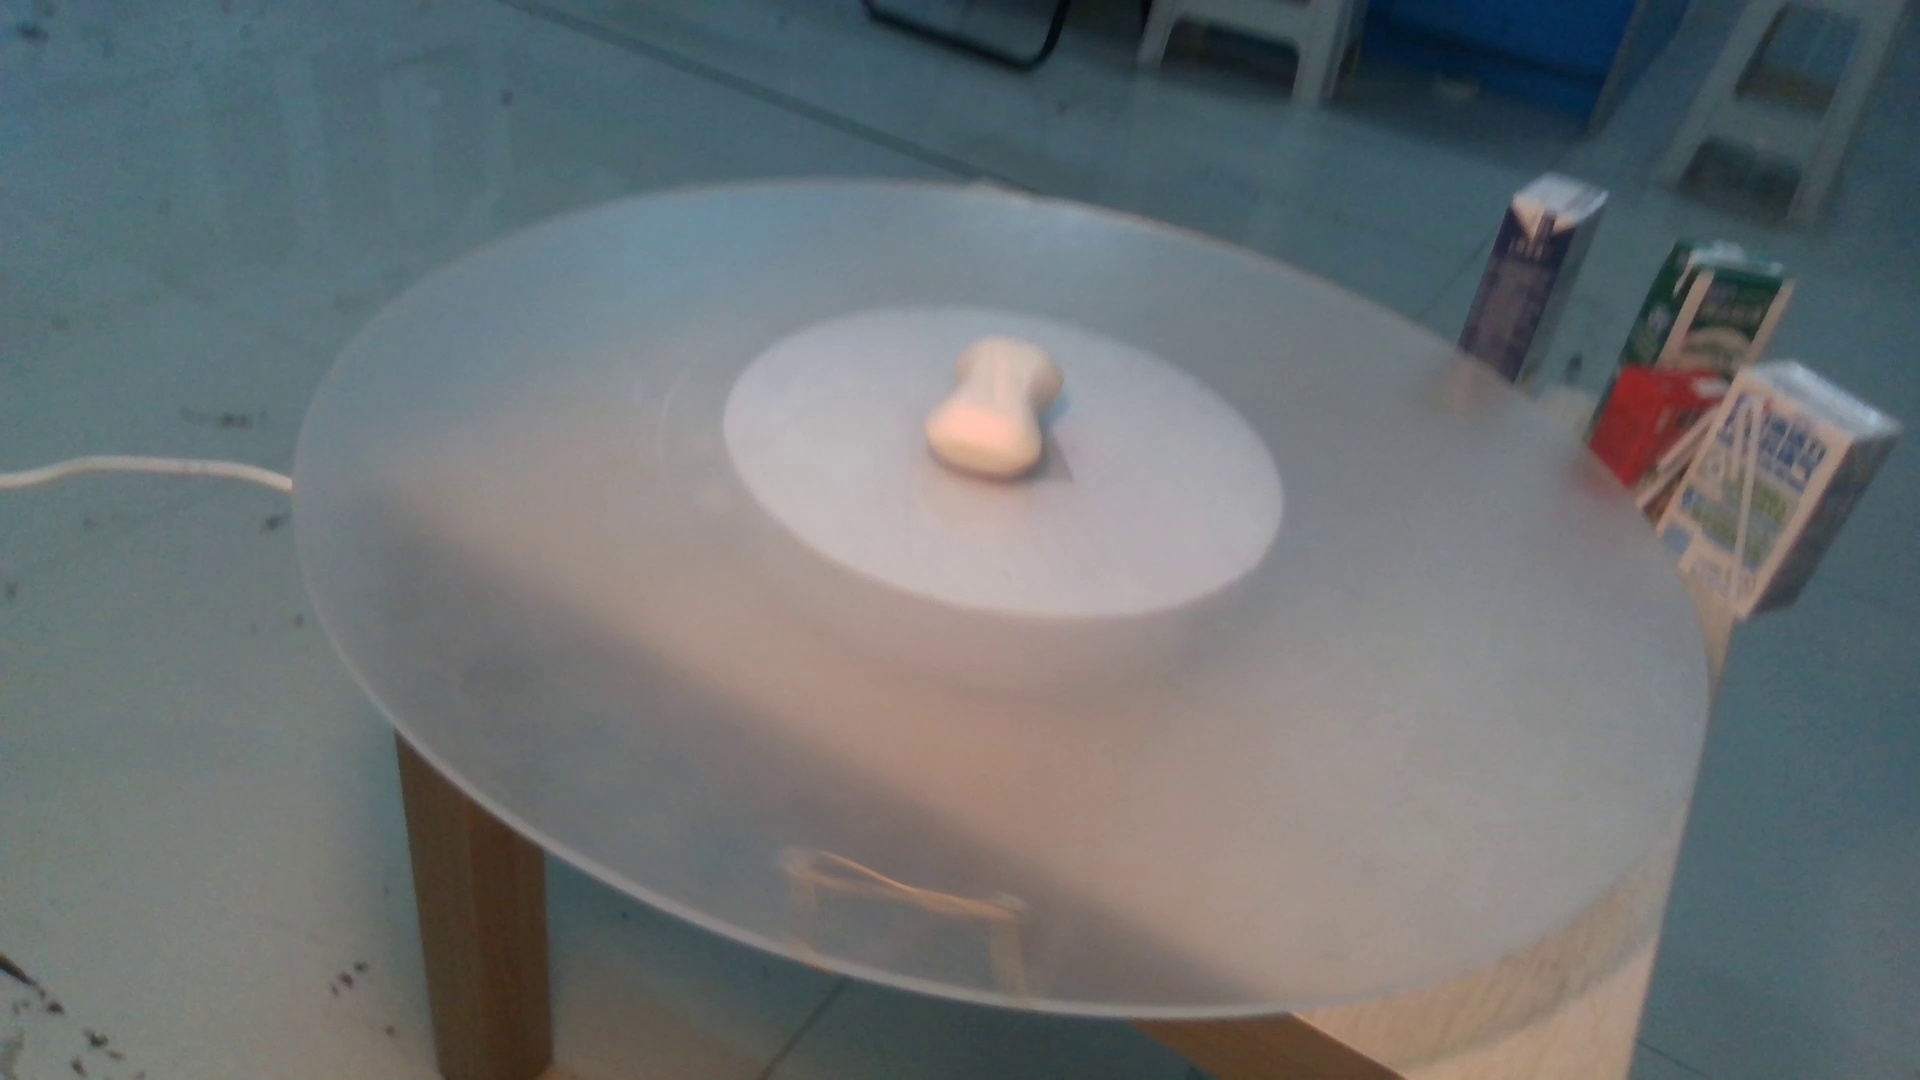CA003_1: (913, 328, 1105, 476)
